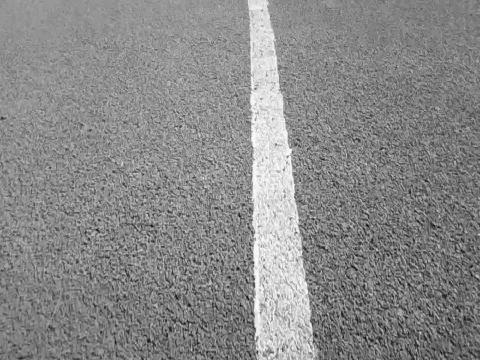Lines: (247, 0, 317, 360)
